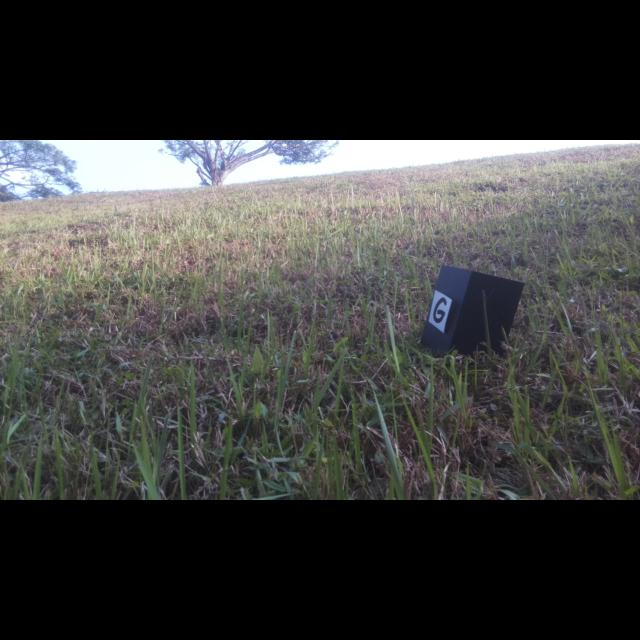G: (433, 297, 447, 323)
